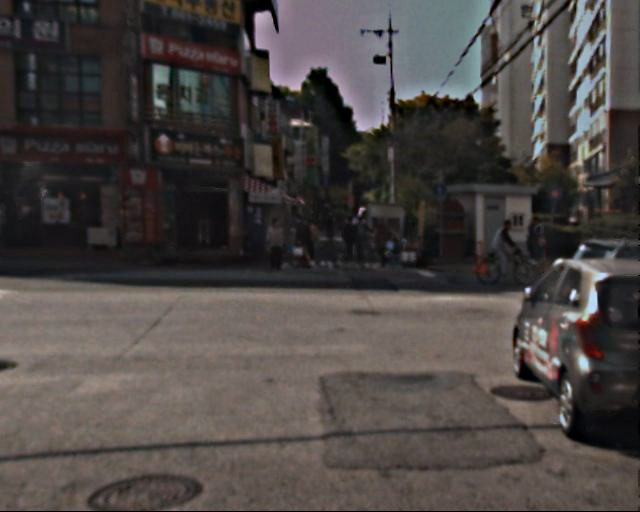person: (491, 217, 515, 276), (266, 215, 289, 270), (293, 213, 316, 268), (373, 218, 395, 272), (300, 217, 320, 266), (342, 214, 362, 262), (528, 217, 548, 265), (353, 215, 372, 262), (387, 231, 403, 271), (325, 210, 338, 242)
